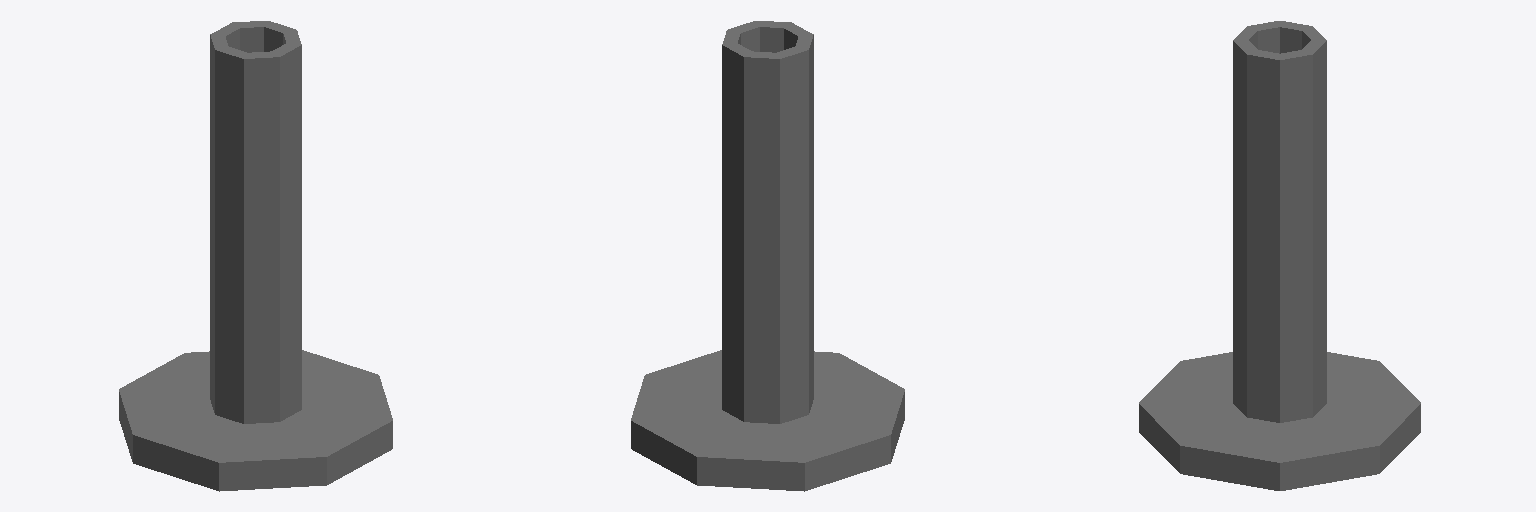
The robot description file, URDF, robot "parttoolgen_screwdriver_insert_thin_guide_socket":
<?xml version="1.0"?>
<robot name="parttoolgen_screwdriver_insert_thin_guide_socket">
  <link name="thin_guide_socket">
    <!-- Public tabletop insertion target: a small visual base plus a thin-wall
         guide sleeve. The guide hole is 8 mm across, slightly larger than the
         long_screwdriver shaft/tip diameter measured from the public mesh. -->
    <visual>
      <material name="guide_socket_gray">
        <color rgba="0.50 0.50 0.50 1.0"/>
      </material>
      <origin xyz="0 0 0"/>
      <geometry>
        <mesh filename="thin_guide_socket_036x055.obj" scale="1 1 1"/>
      </geometry>
    </visual>
    <visual>
      <material name="guide_socket_dark_visible_bottom">
        <color rgba="0.015 0.015 0.015 1.0"/>
      </material>
      <origin xyz="0 0 0.001" rpy="0 0 0"/>
      <geometry>
        <cylinder radius="0.0035" length="0.001"/>
      </geometry>
    </visual>

    <collision>
      <origin xyz="0.005 0 0.0275"/>
      <geometry>
        <box size="0.002 0.012 0.055"/>
      </geometry>
    </collision>
    <collision>
      <origin xyz="-0.005 0 0.0275"/>
      <geometry>
        <box size="0.002 0.012 0.055"/>
      </geometry>
    </collision>
    <collision>
      <origin xyz="0 0.005 0.0275"/>
      <geometry>
        <box size="0.008 0.002 0.055"/>
      </geometry>
    </collision>
    <collision>
      <origin xyz="0 -0.005 0.0275"/>
      <geometry>
        <box size="0.008 0.002 0.055"/>
      </geometry>
    </collision>

    <inertial>
      <mass value="0.08"/>
      <inertia ixx="0.00003" ixy="0.0" ixz="0.0" iyy="0.00003" iyz="0.0" izz="0.00003"/>
    </inertial>
  </link>
</robot>

--- What the picture shows (computed from the rendered views, not written in the file) ---
The picture shows the robot from 3 angles, left to right: view 1: azimuth 30°, elevation 25°; view 2: azimuth 150°, elevation 25°; view 3: azimuth 270°, elevation 25°; orthographic projection.
Model parttoolgen_screwdriver_insert_thin_guide_socket with 1 links and 0 joints (none), rooted at thin_guide_socket, posed every joint at zero.
Links seen in each view (by area): view 1: thin_guide_socket; view 2: thin_guide_socket; view 3: thin_guide_socket.
Boxes of the visible links, left/top/right/bottom form: thin_guide_socket: left=119, top=21, right=392, bottom=491; thin_guide_socket: left=631, top=21, right=904, bottom=491; thin_guide_socket: left=1139, top=21, right=1420, bottom=490.
Bounding box of the posed robot: 0.036 × 0.036 × 0.055 m (x, y, z).
1 mesh visuals loaded from 1 distinct referenced files (1 OBJ).
